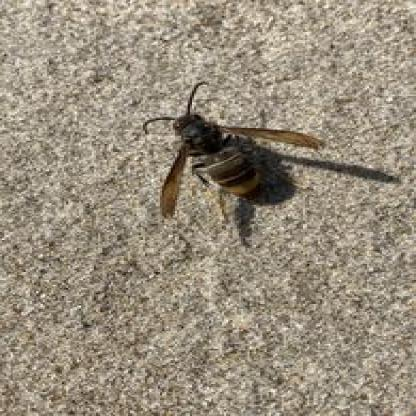Asian Hornet: (142, 76, 332, 227)
